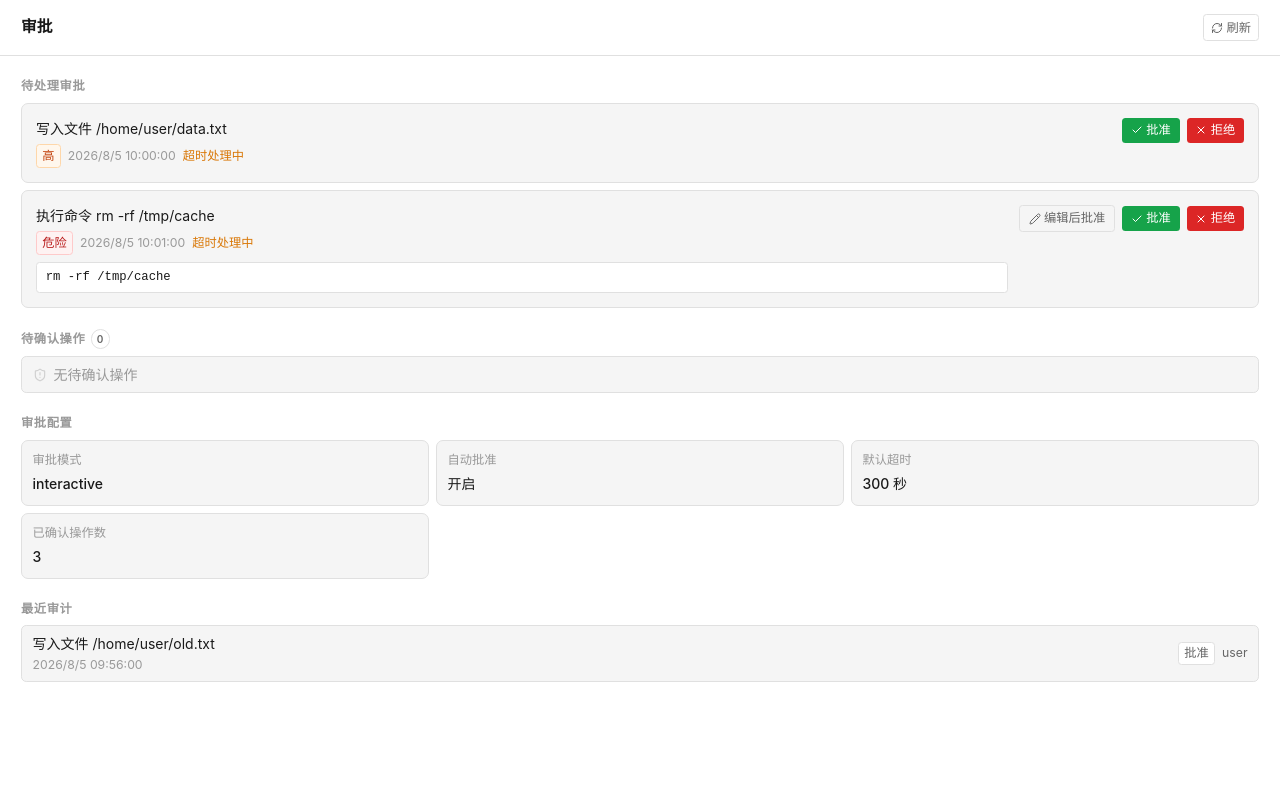
Test: ApprovalPanel › cancels inline editing without responding
Expected: the text "执行命令 rm -rf /tmp/cache" is shown, x1=36 y1=207 x2=215 y2=224
Step 1. Click the button with aria-label "编辑后批准 执行命令" → (1067, 219), box x1=1019 y1=205 x2=1115 y2=232
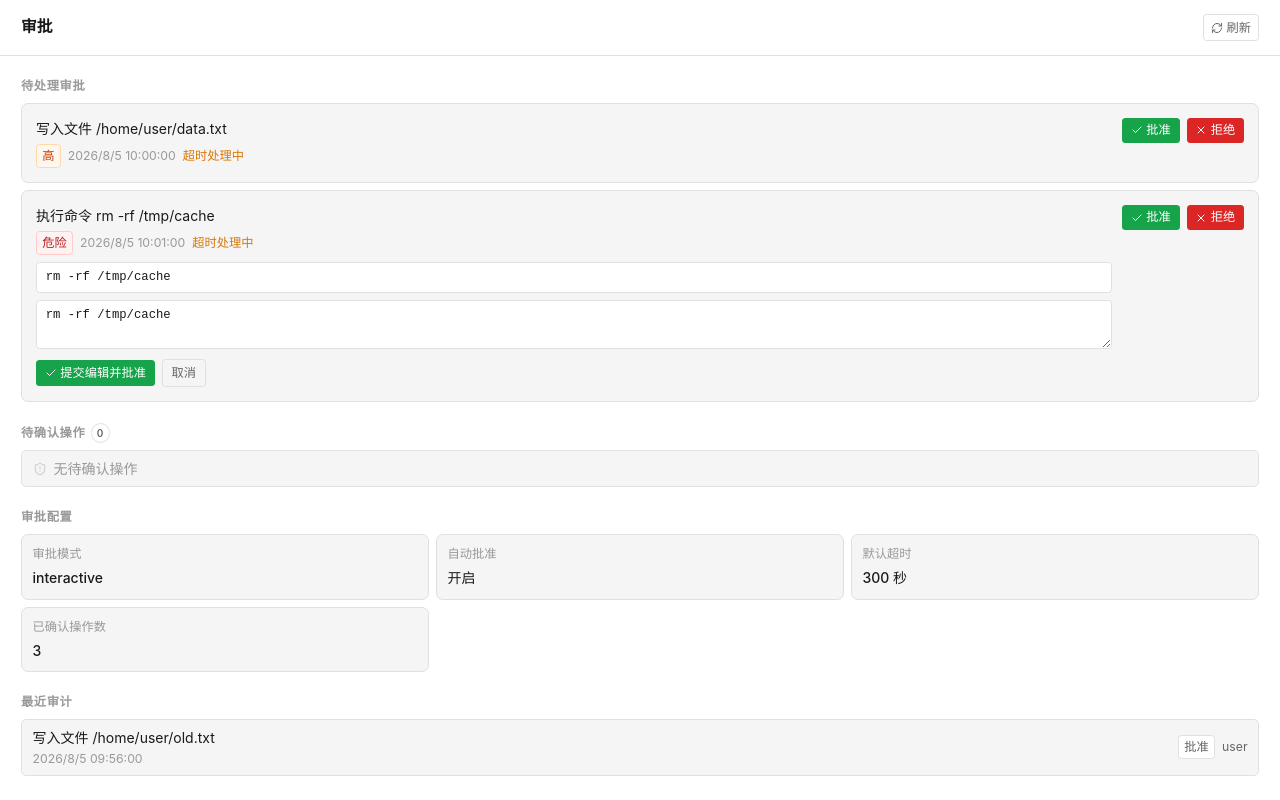
Now the text box named "编辑后的命令" is shown, box x1=36 y1=300 x2=1112 y2=349
Step 2. Click the button "取消" → (184, 373), box x1=162 y1=359 x2=206 y2=387
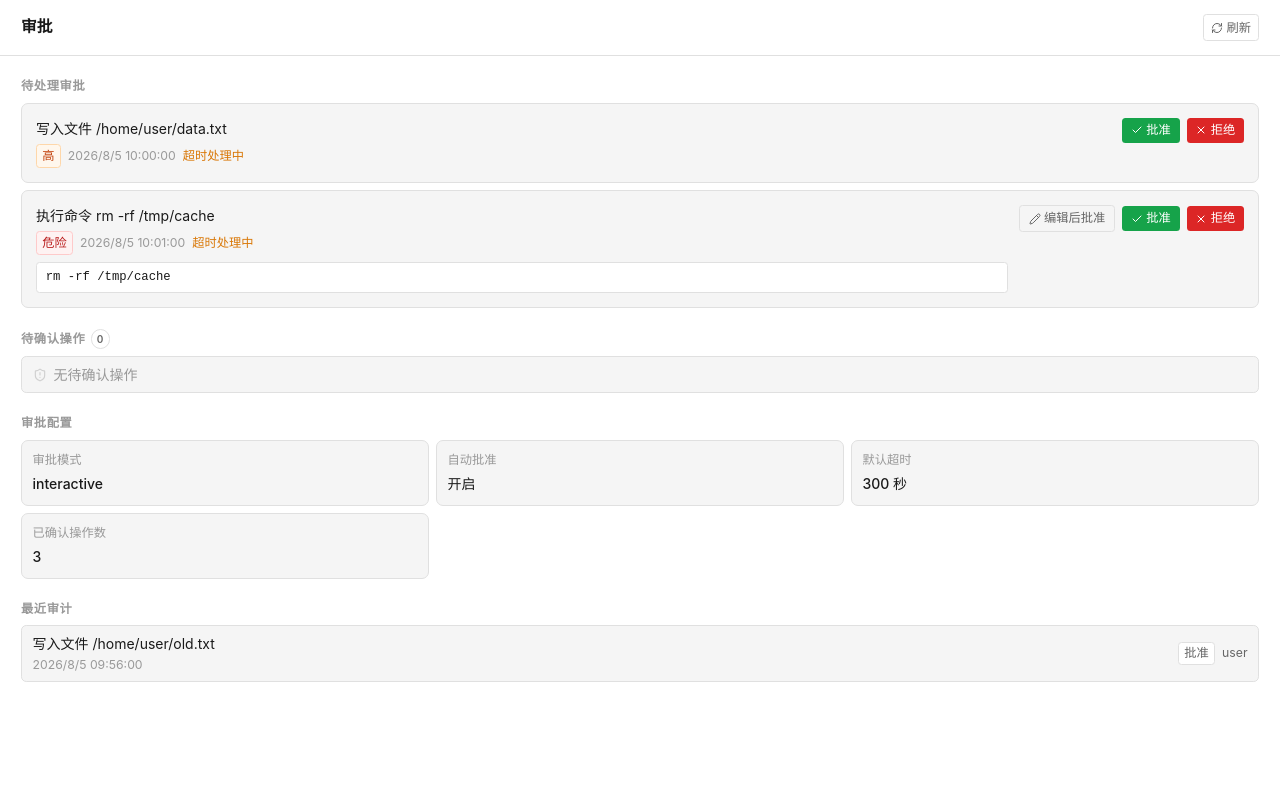
Now the text box labelled "编辑后的命令" is gone
